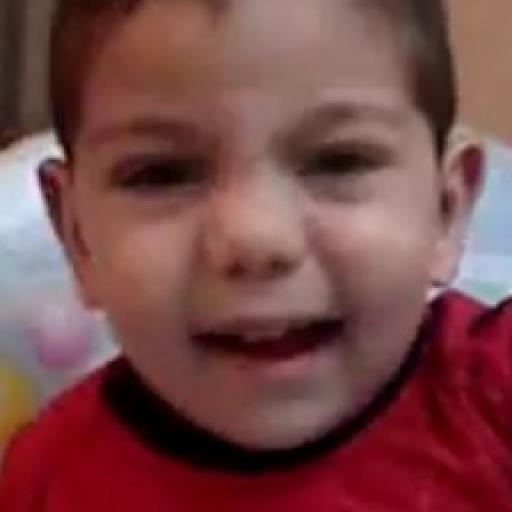Autism: (41, 25, 512, 512)
